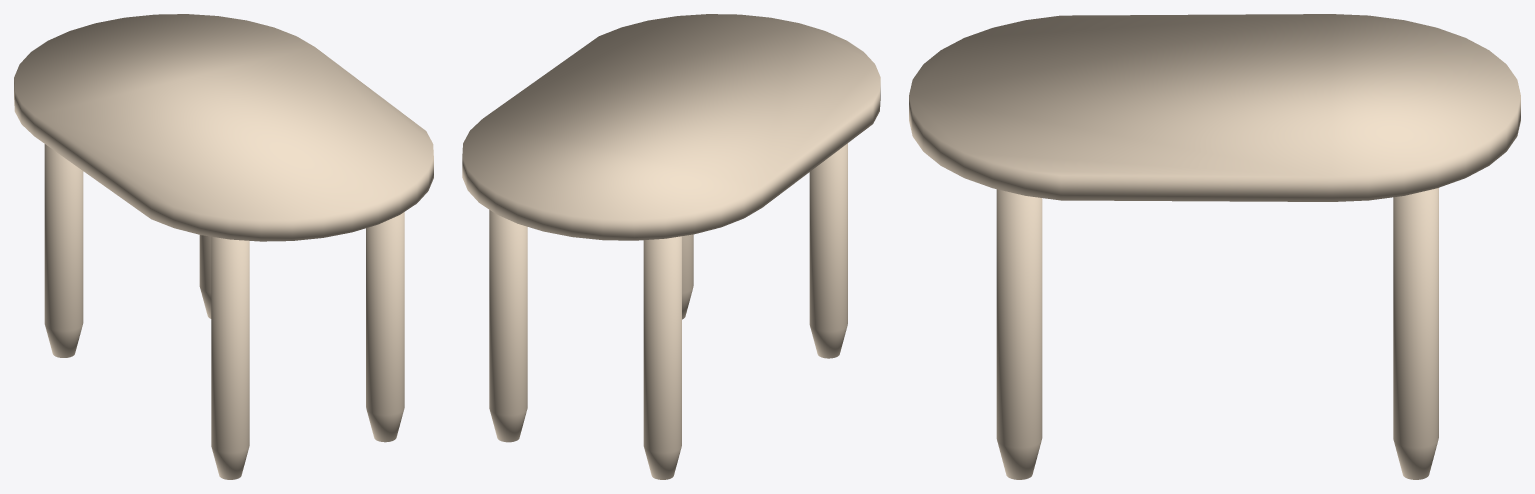
The model's file is Table1.glb.
3 views of the same model, side by side, from view 1: azimuth 30°, elevation 25°; view 2: azimuth 150°, elevation 25°; view 3: azimuth 270°, elevation 25° (orthographic). The views are drawn at different scales.
Parts seen in each view (by area): view 1: Circle.007; view 2: Circle.007; view 3: Circle.007.
Part boxes in pixels (box(x1,y1,x2,y2)): Circle.007: box(14, 14, 433, 479); Circle.007: box(462, 14, 880, 479); Circle.007: box(909, 14, 1520, 479).
Bounding box in the file's own units: 2.23 × 2.12 × 3.54.
